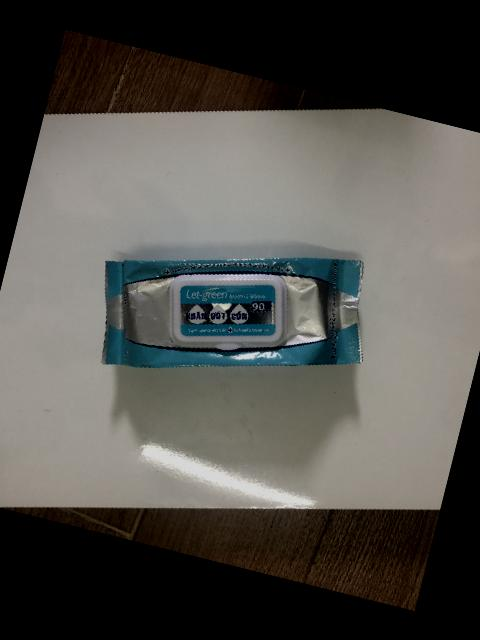Let-green_alcohol_wipes: (98, 253, 363, 368)
